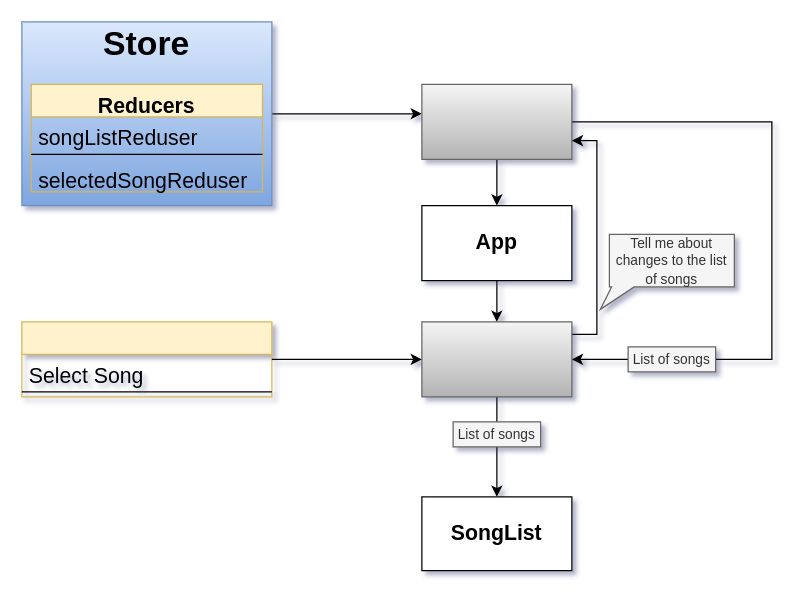
This 811x600 diagram has some shape labels left out. Each missing label, with the box of its shape:
ActionCreators: (21, 321, 272, 397)
Connect: (421, 321, 572, 397)
Provider: (421, 83, 572, 159)
